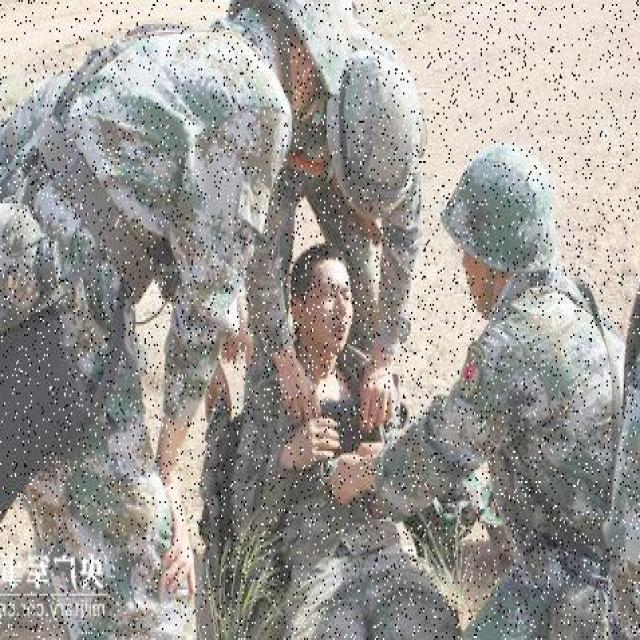fall: (276, 242, 430, 638)
